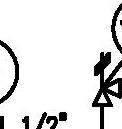psv: (90, 49, 122, 112)
